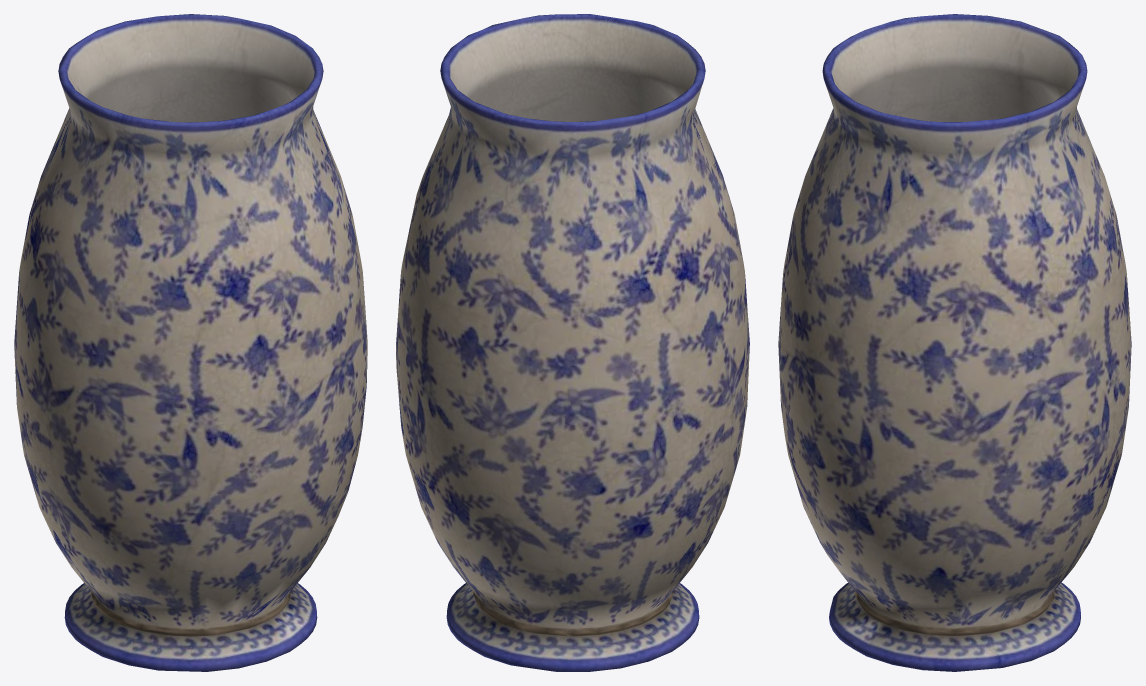
3 views of the same model, side by side, from view 1: azimuth 30°, elevation 25°; view 2: azimuth 150°, elevation 25°; view 3: azimuth 270°, elevation 25° (orthographic).
Visible parts, largest first — view 1: antique_ceramic_vase_01; view 2: antique_ceramic_vase_01; view 3: antique_ceramic_vase_01.
Part boxes in pixels (<box>): antique_ceramic_vase_01: <box>14,14,367,671</box>; antique_ceramic_vase_01: <box>396,14,749,671</box>; antique_ceramic_vase_01: <box>778,14,1131,671</box>.
Size of the model in its own units: 0.2549 by 0.4396 by 0.255.
1 material, 1 textured.
